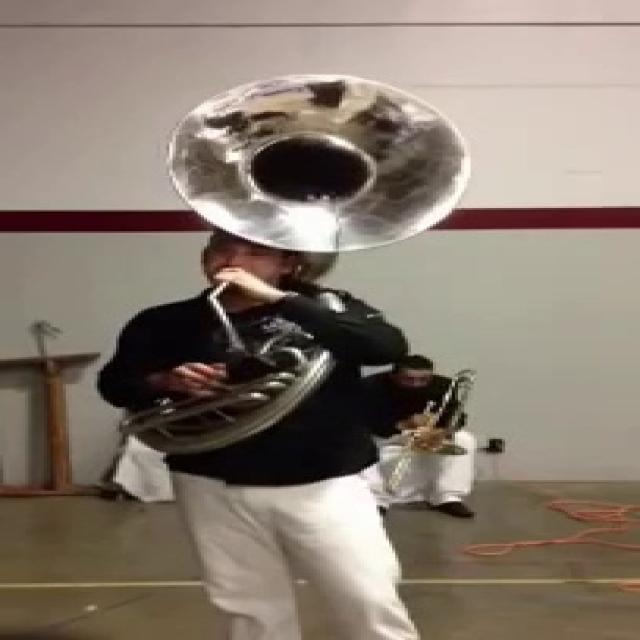Tuba: (130, 77, 470, 452)
